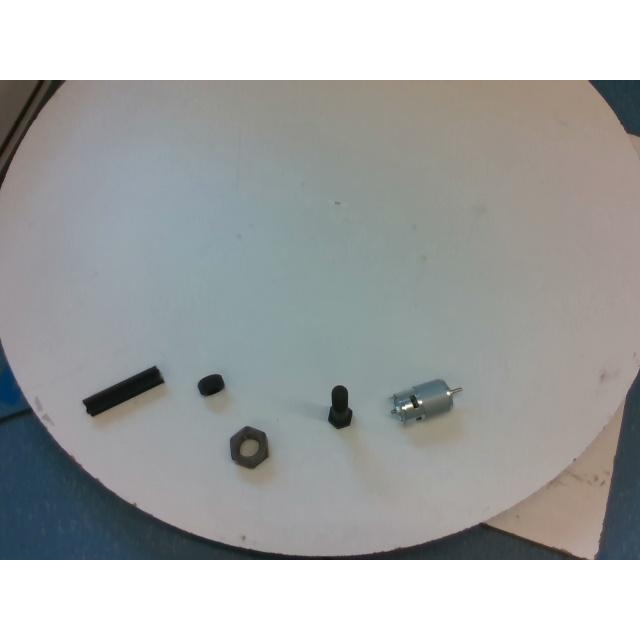F20_20_B: (81, 366, 162, 414)
M20: (198, 374, 224, 394)
M20_100: (328, 385, 352, 429)
M30: (230, 426, 268, 468)
Motor2: (389, 378, 461, 422)
